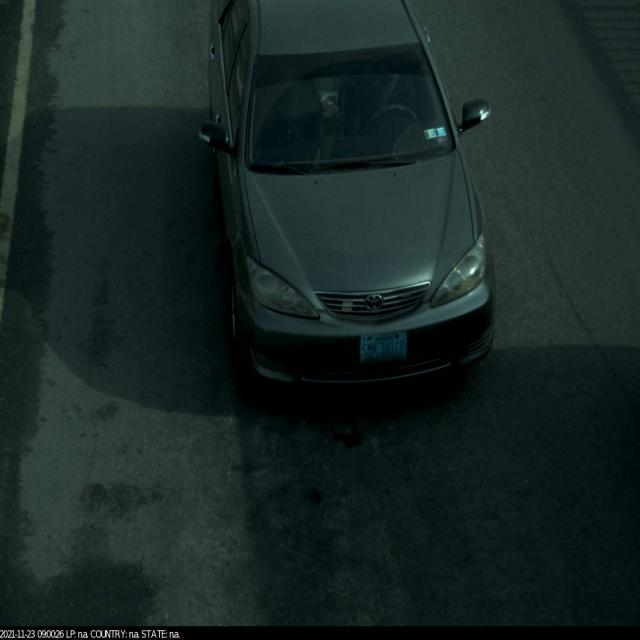windshield: (227, 29, 465, 188)
